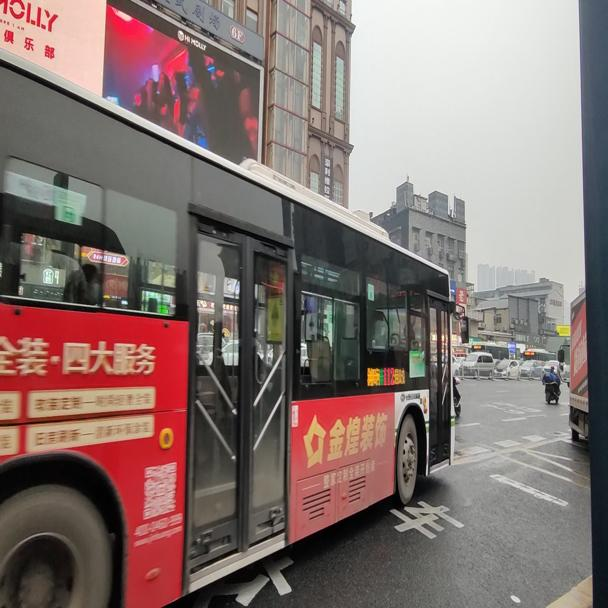bus: (0, 43, 468, 605)
screen: (383, 367, 394, 385)
